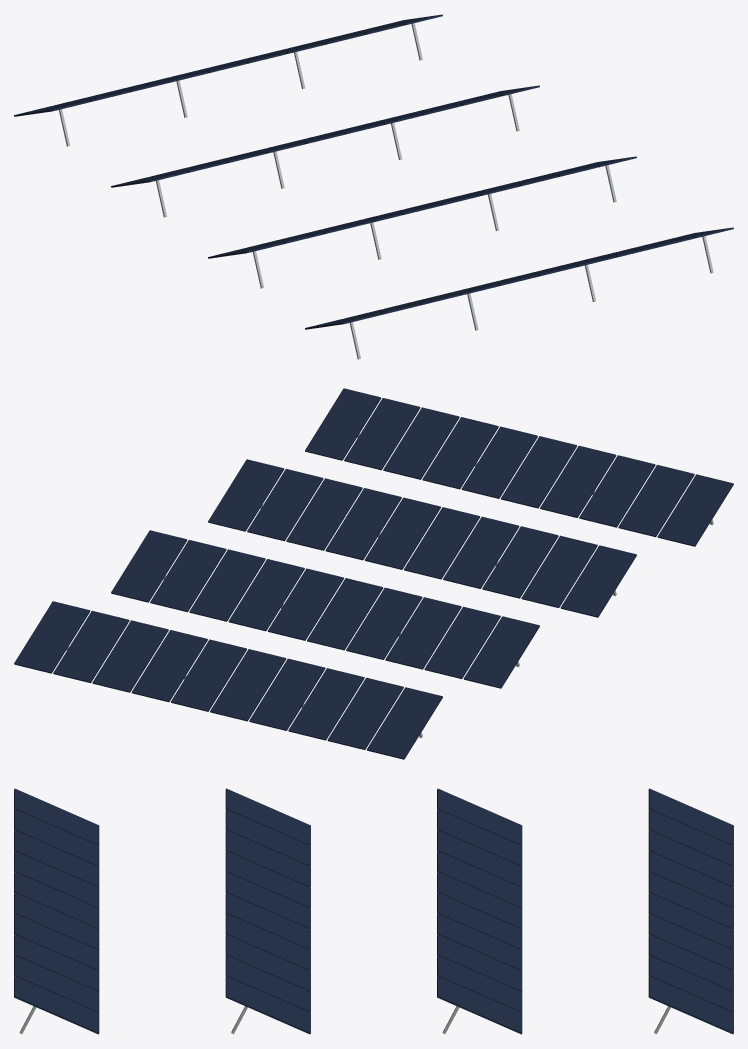
File: solar-block.glb
3 views of the same model, one above another, from view 1: azimuth 30°, elevation 25°; view 2: azimuth 150°, elevation 25°; view 3: azimuth 270°, elevation 25° (orthographic). The views are drawn at different scales.
Parts seen in each view (by area): view 1: kit-solar-block; view 2: kit-solar-block; view 3: kit-solar-block.
Part boxes in pixels (<box>): kit-solar-block: <box>14,14,733,359</box>; kit-solar-block: <box>14,388,733,759</box>; kit-solar-block: <box>14,788,733,1034</box>.
Size of the model in its own units: 10.45 by 1.12 by 15.32.
